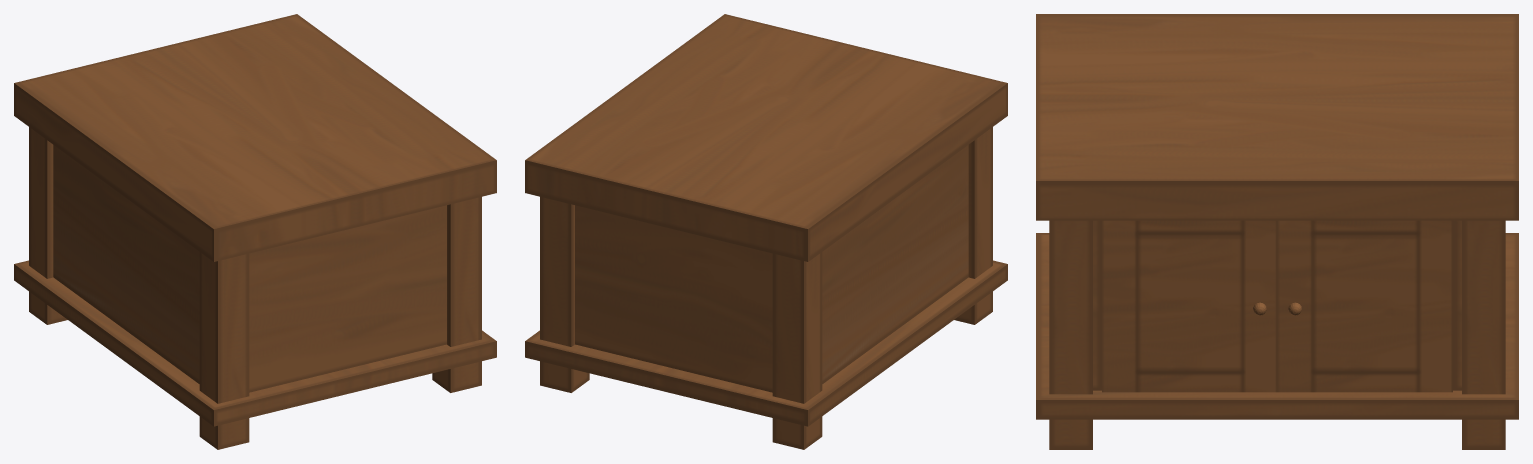
The model's file is Meja_Kamar.fbx.
3 renders of one model, left to right at view 1: azimuth 30°, elevation 25°; view 2: azimuth 150°, elevation 25°; view 3: azimuth 270°, elevation 25°, orthographic. The views are drawn at different scales.
Visible parts, largest first — view 1: Meja_Kecil; view 2: Meja_Kecil; view 3: Meja_Kecil, Meja_TV.004, Meja_TV.000.
Boxes of the visible parts, bbox=[...] form: Meja_Kecil: bbox=[14, 14, 496, 449]; Meja_Kecil: bbox=[525, 14, 1007, 449]; Meja_Kecil: bbox=[1036, 14, 1518, 449]; Meja_TV.004: bbox=[1102, 220, 1277, 392]; Meja_TV.000: bbox=[1277, 220, 1452, 392].
Bounding box in the file's own units: 90 × 69 × 110.
Materials: 1 (1 with a texture image).
